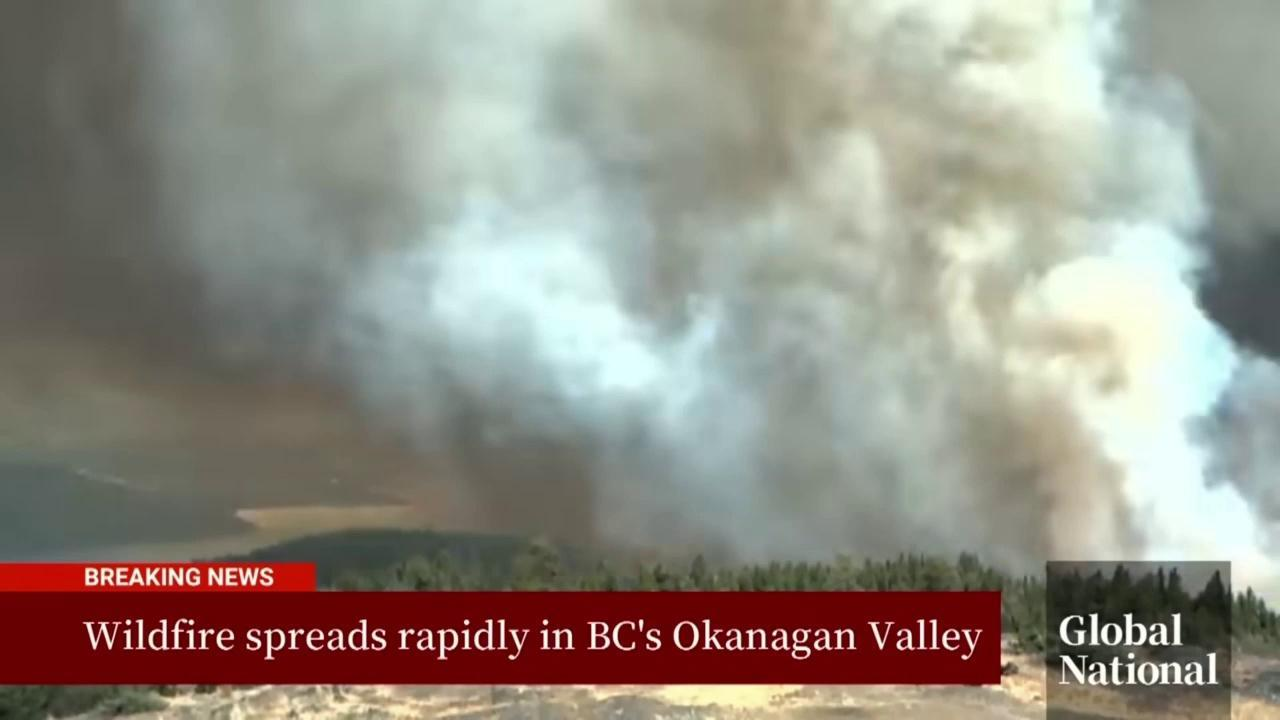smoke: (0, 0, 1280, 617)
